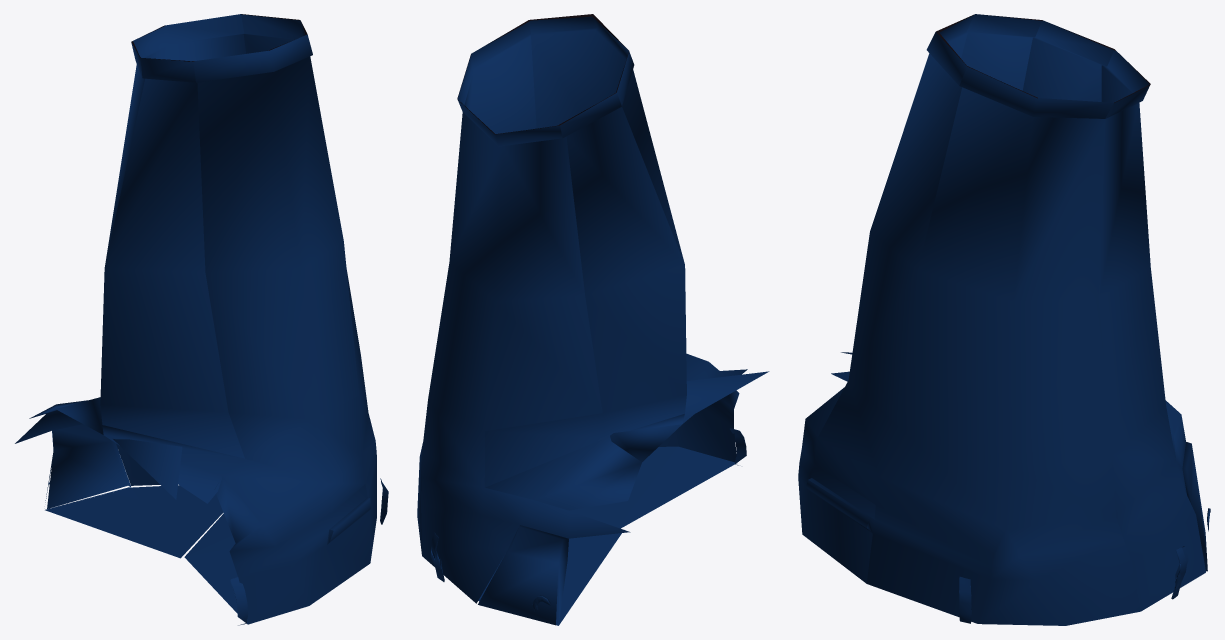
Rendered from right_up_leg.glb.
The picture shows the model from 3 angles, left to right: view 1: azimuth 30°, elevation 25°; view 2: azimuth 150°, elevation 25°; view 3: azimuth 270°, elevation 25°; orthographic projection. The views are drawn at different scales.
Parts seen in each view (by area): view 1: shorts-navy_RIGHT_UP_LEG; view 2: shorts-navy_RIGHT_UP_LEG; view 3: shorts-navy_RIGHT_UP_LEG.
Boxes of the visible parts, left/top/right/bottom form: shorts-navy_RIGHT_UP_LEG: left=15, top=14, right=388, bottom=625; shorts-navy_RIGHT_UP_LEG: left=417, top=14, right=769, bottom=625; shorts-navy_RIGHT_UP_LEG: left=798, top=14, right=1210, bottom=625.
Bounding box in the file's own units: 0.27 × 0.484 × 0.3307.
1 material, 1 textured.
